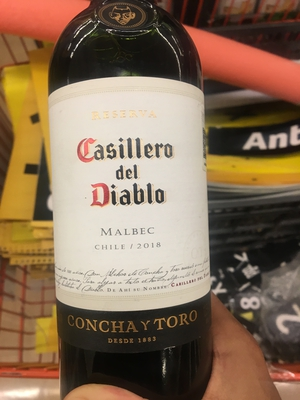casillero del diablo malbec: (38, 6, 227, 400)
